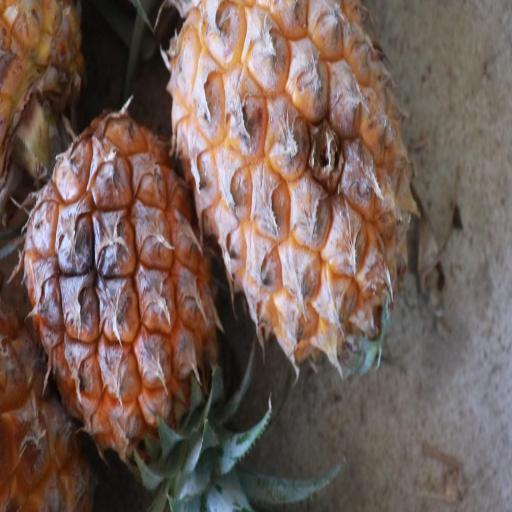Pineapple - v8 v1: (161, 3, 420, 381), (21, 106, 224, 470)
